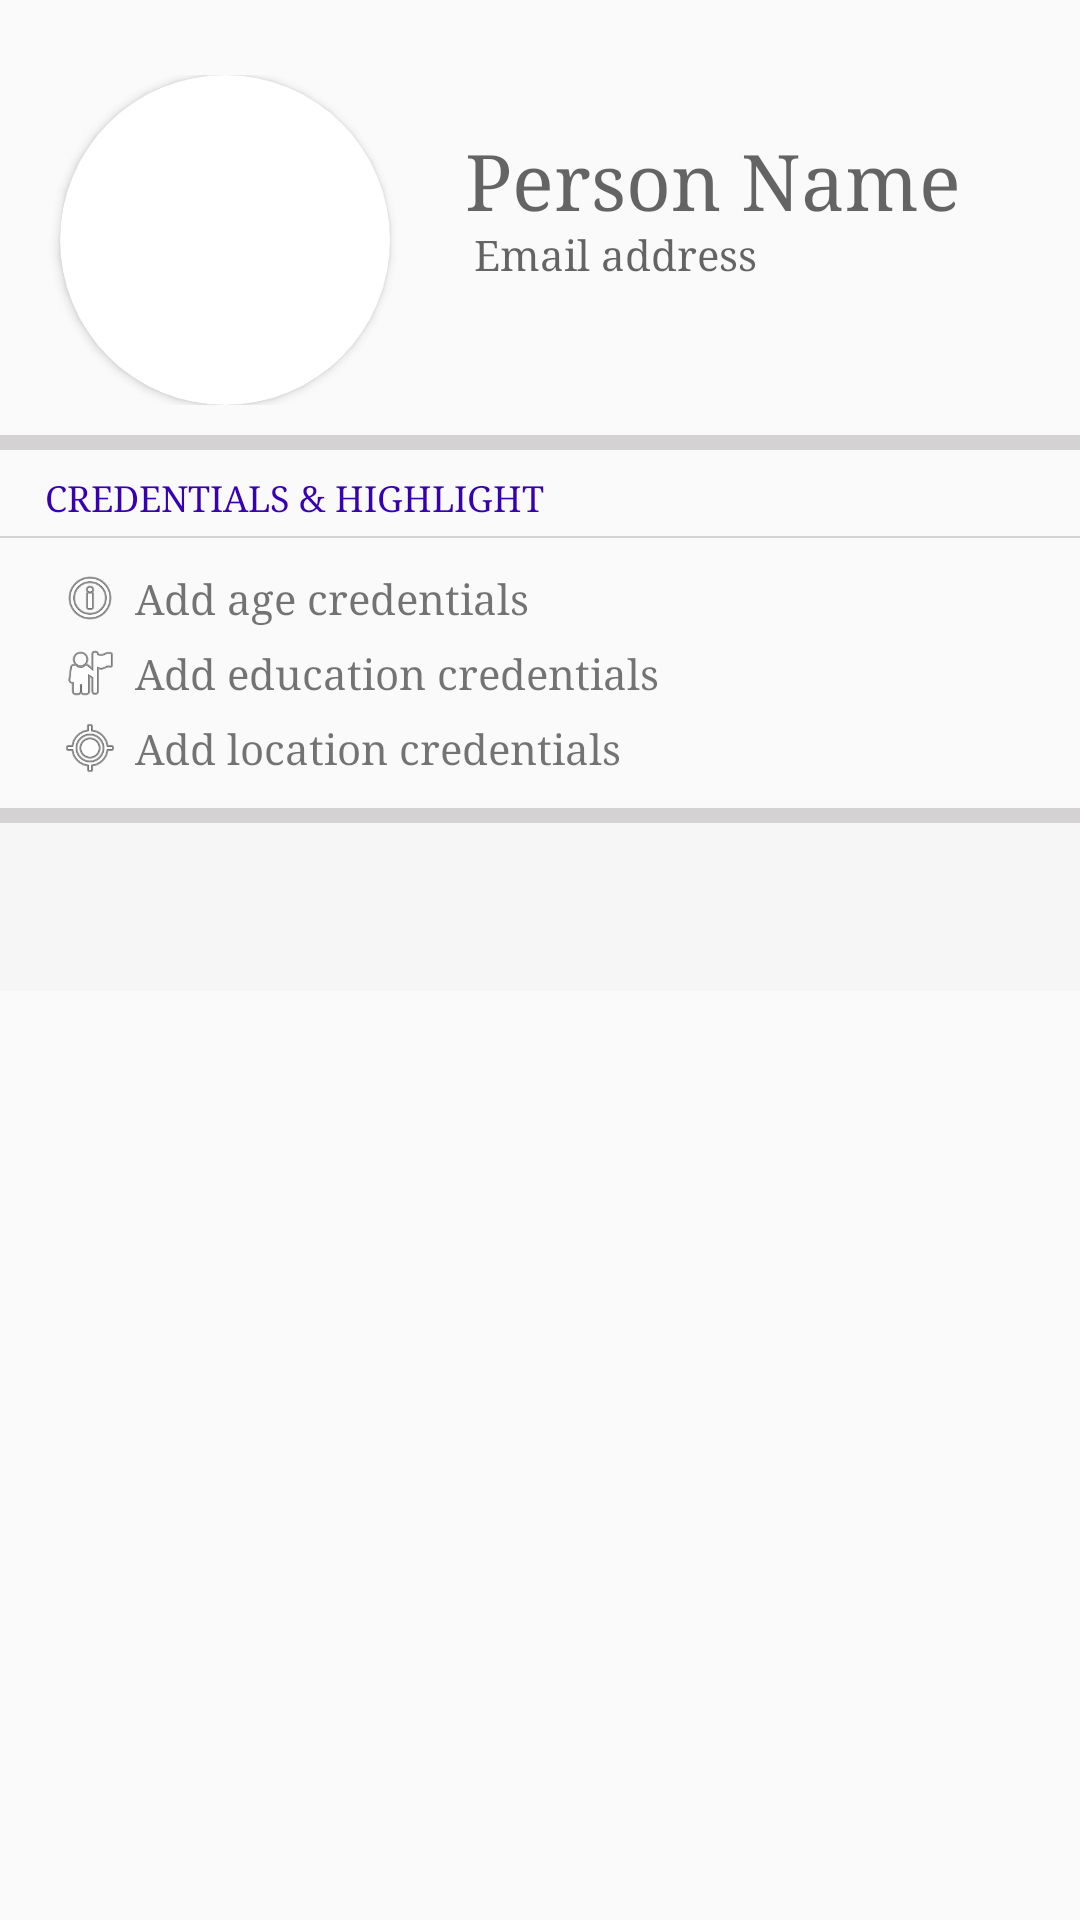

Point at icon controls on the screen. Image size 1080*1920, points as [x,y].
info details: [90,598]
mylocation: [90,748]
myplaces: [90,673]
